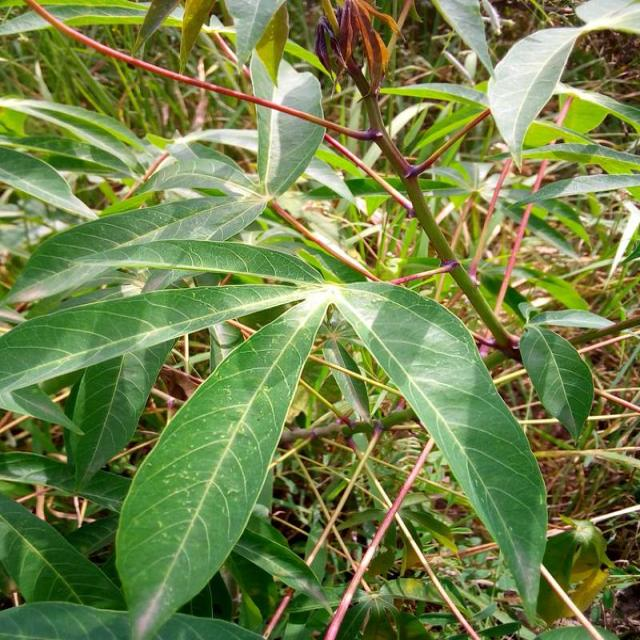cassava leaf: (330, 279, 550, 626), (115, 291, 332, 637), (519, 322, 595, 443)
